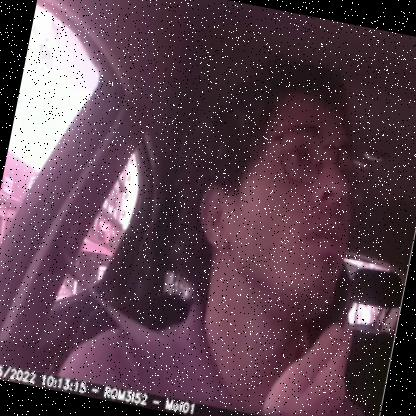phone: (299, 258, 363, 350)
